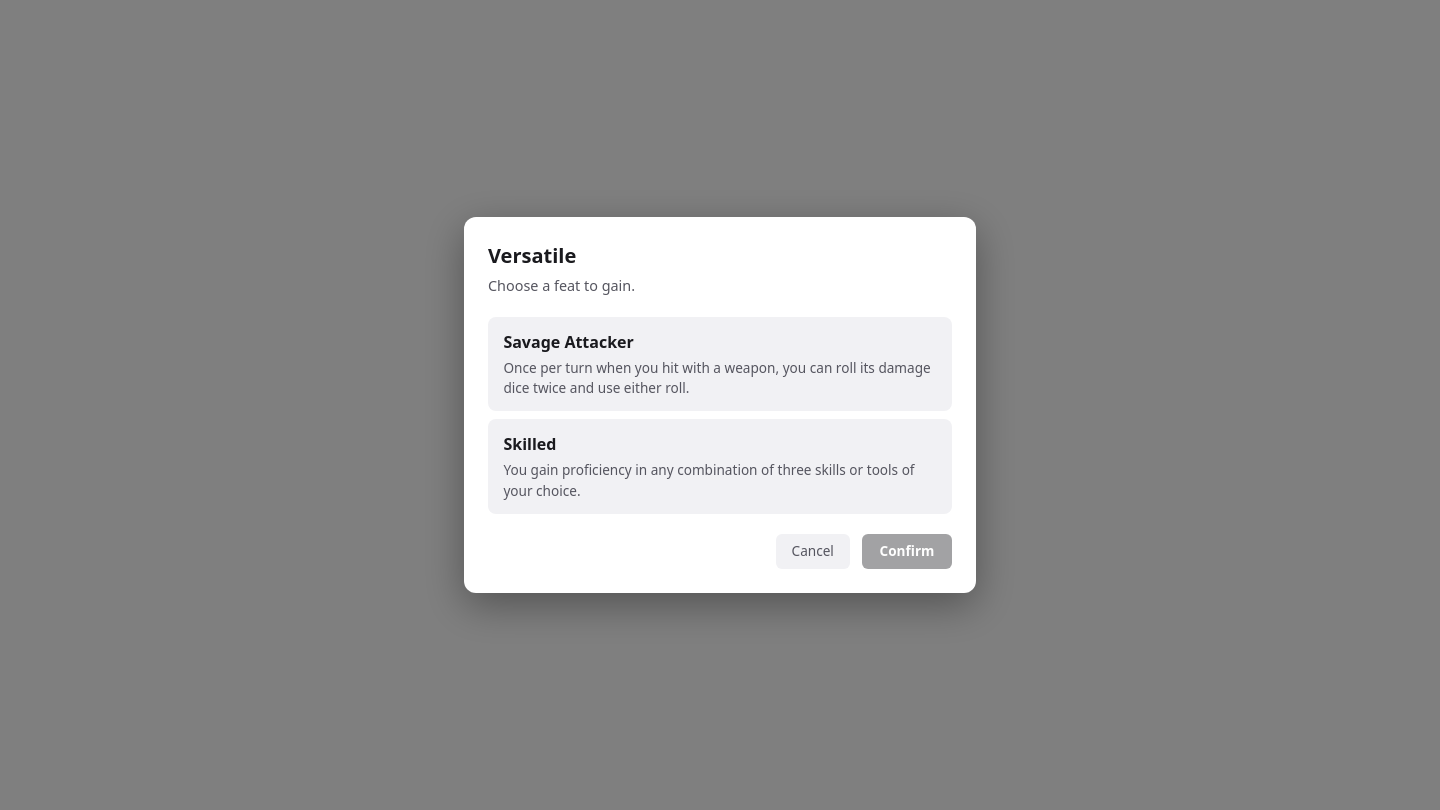
Test: FeatChoiceDialog › gates the Skilled feat on choosing exactly three skills
Click the button "Skilled" at (720, 467), box x1=488 y1=419 x2=952 y2=514
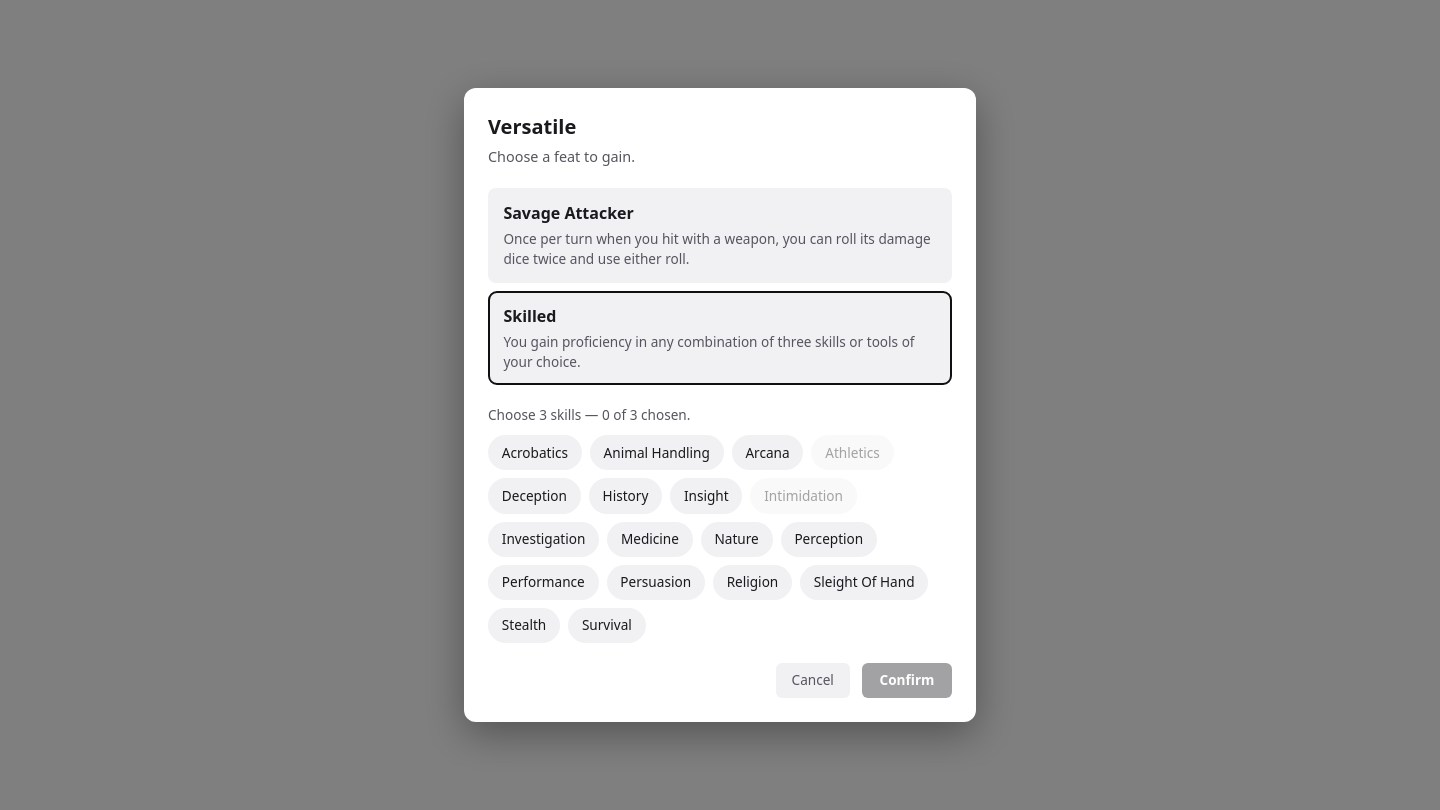
Expected: the button "Confirm" is disabled, x1=862 y1=663 x2=952 y2=698
Expected: the text "Choose 3 skills — 0 of 3 chosen." is shown, x1=488 y1=405 x2=690 y2=424
Click the button "Acrobatics" at (535, 453), box x1=488 y1=435 x2=582 y2=470
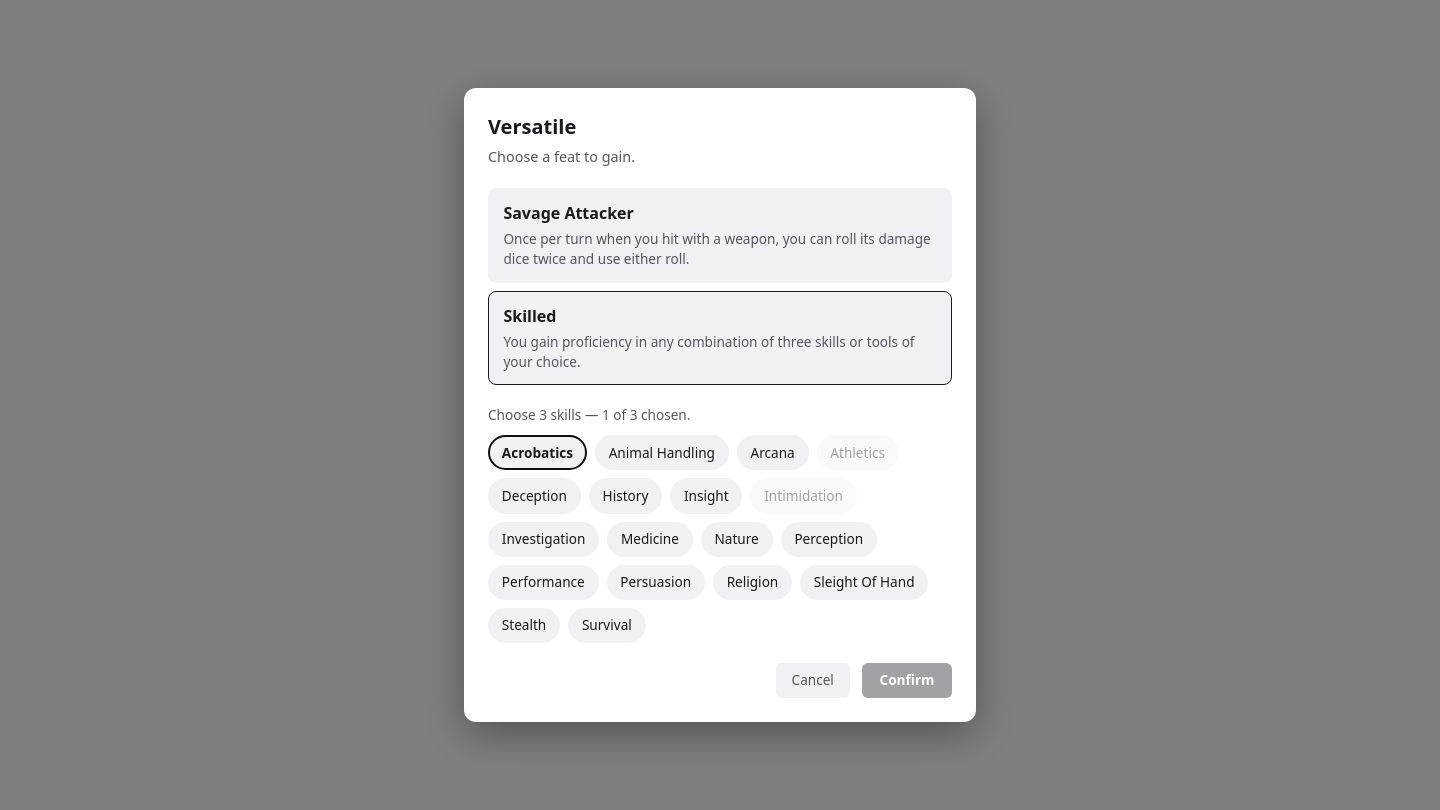
Click the button "Arcana" at (773, 453), box x1=737 y1=435 x2=808 y2=470
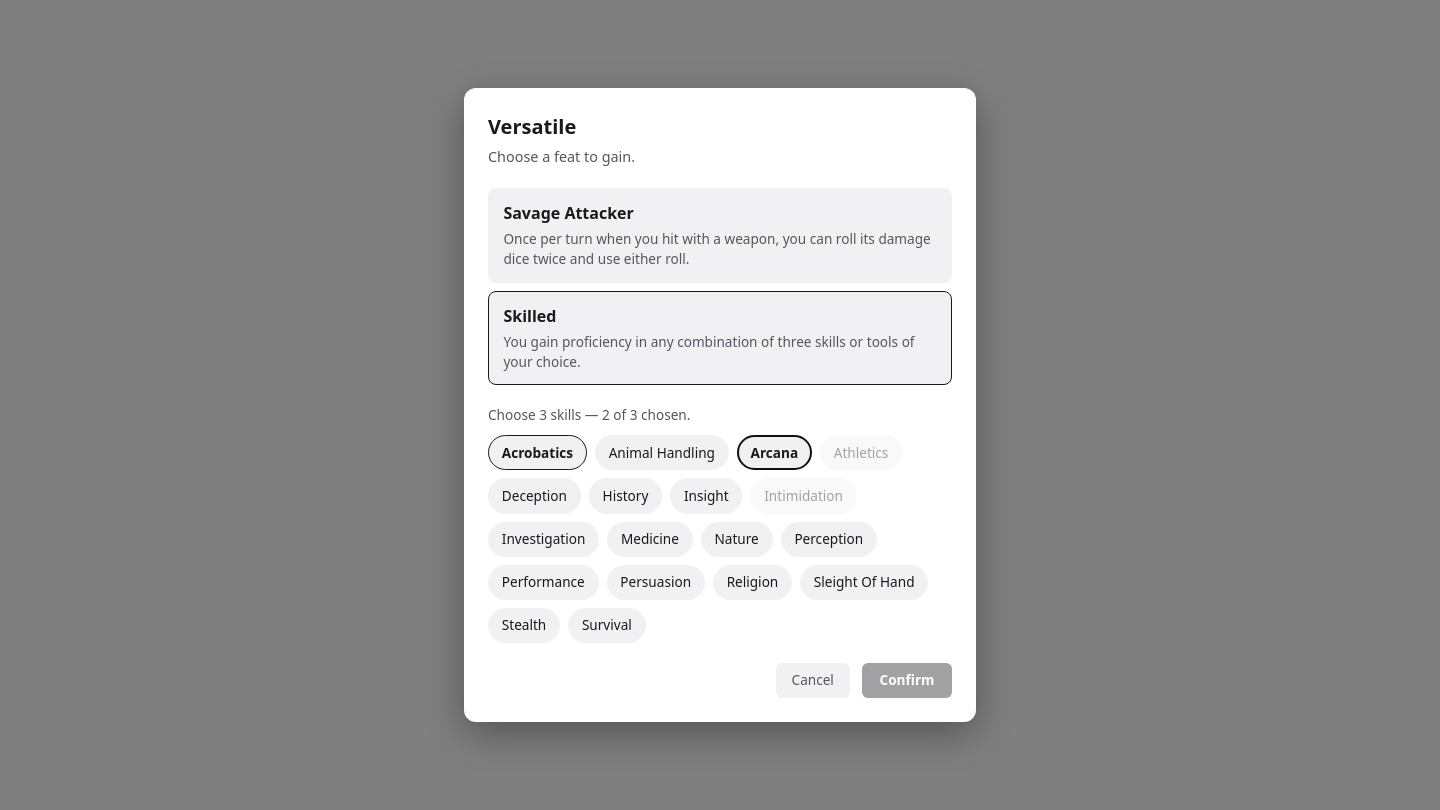
Click the button "Stealth" at (524, 626), box x1=488 y1=608 x2=560 y2=643
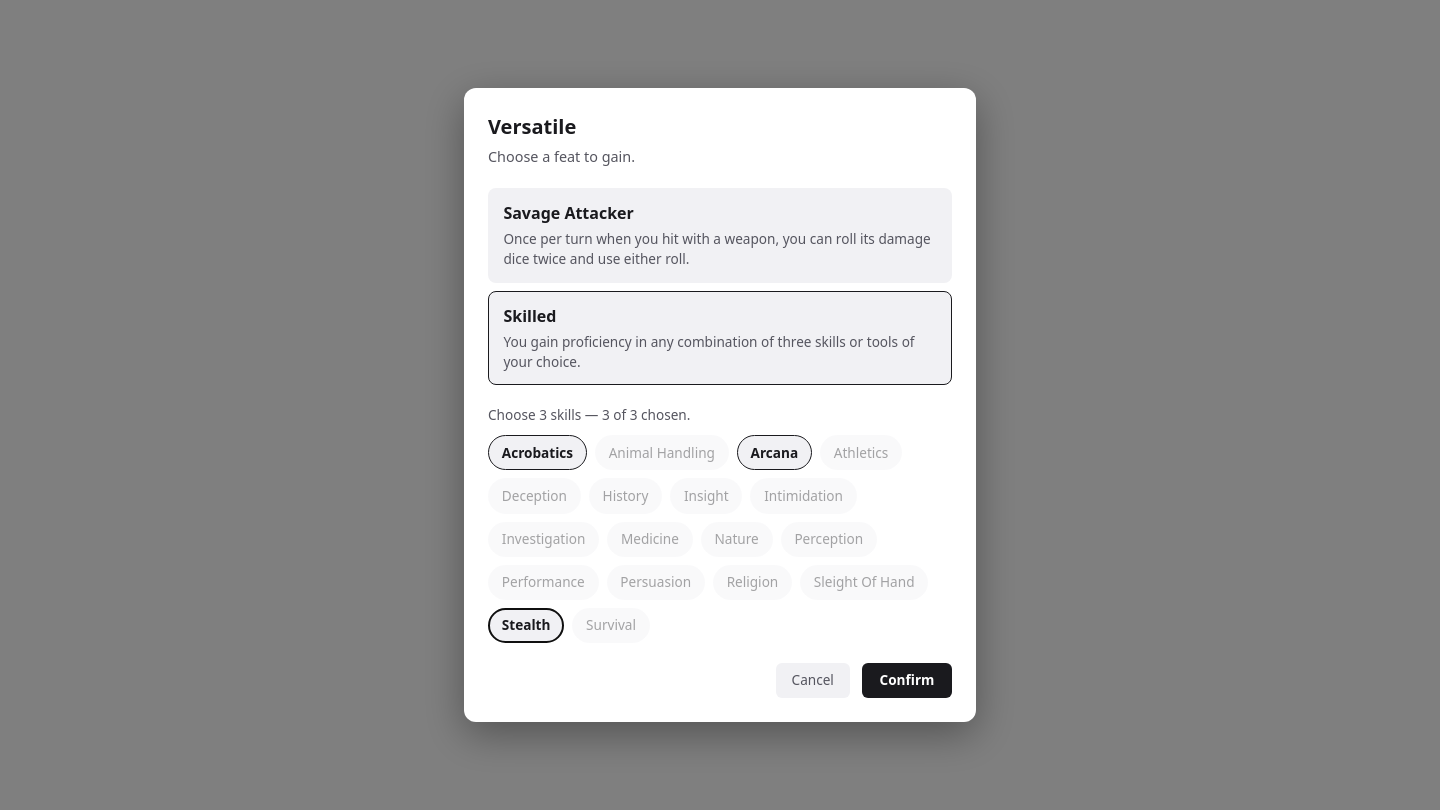
Expected: the text "Choose 3 skills — 3 of 3 chosen." is shown, x1=488 y1=405 x2=690 y2=424
Expected: the button "History" is disabled, x1=589 y1=478 x2=662 y2=514
Expected: the button "Confirm" is enabled, x1=862 y1=663 x2=952 y2=698
Click the button "Arcana" at (774, 453), box x1=737 y1=435 x2=812 y2=470
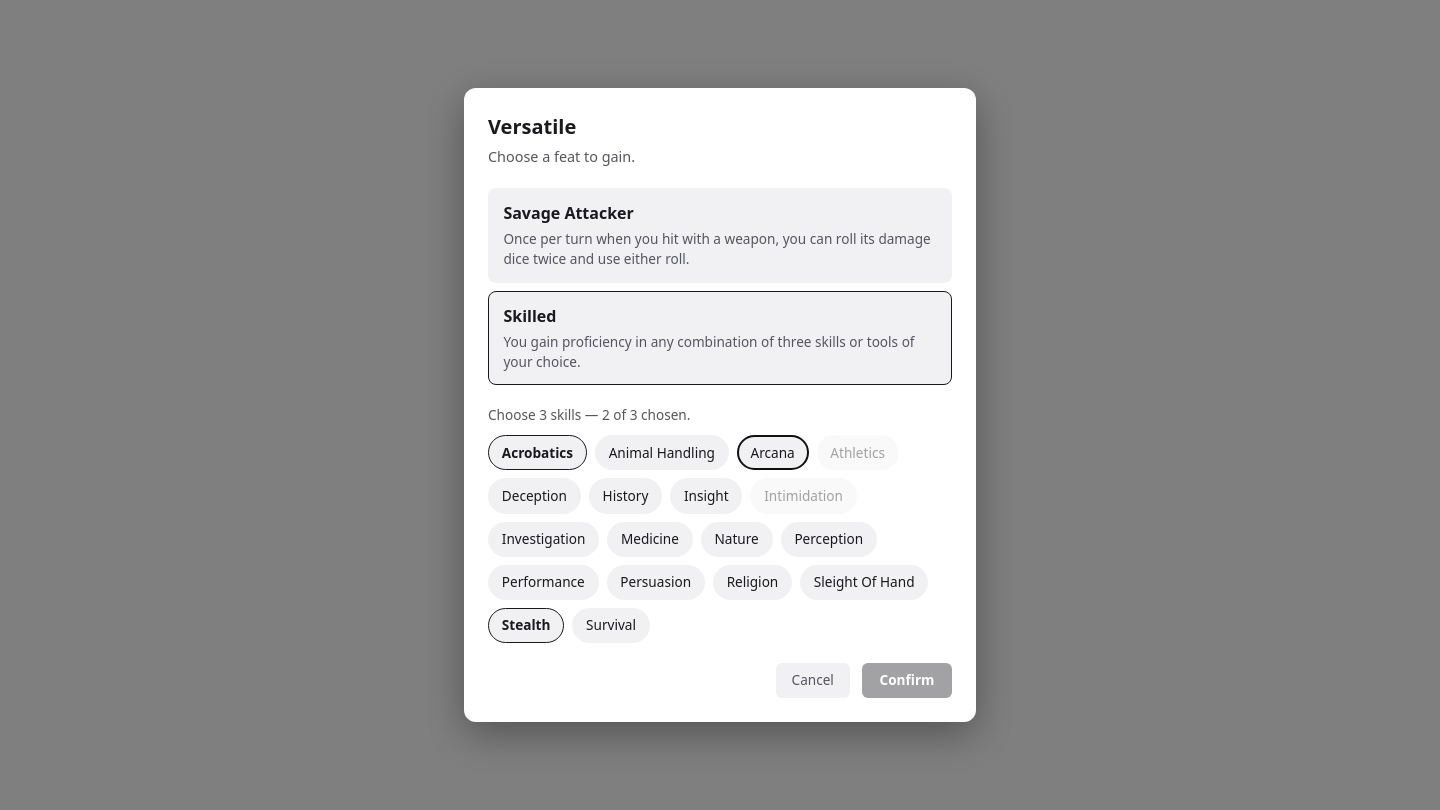
Expected: the text "Choose 3 skills — 2 of 3 chosen." is shown, x1=488 y1=405 x2=690 y2=424
Expected: the button "History" is enabled, x1=589 y1=478 x2=662 y2=514
Expected: the button "Confirm" is disabled, x1=862 y1=663 x2=952 y2=698
